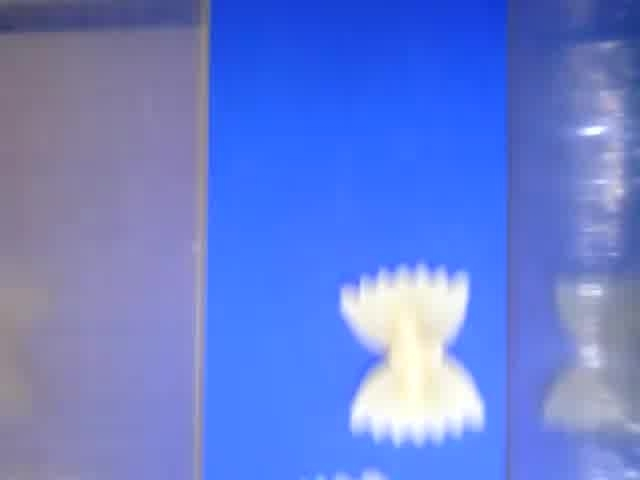farfalle: (339, 260, 487, 441)
